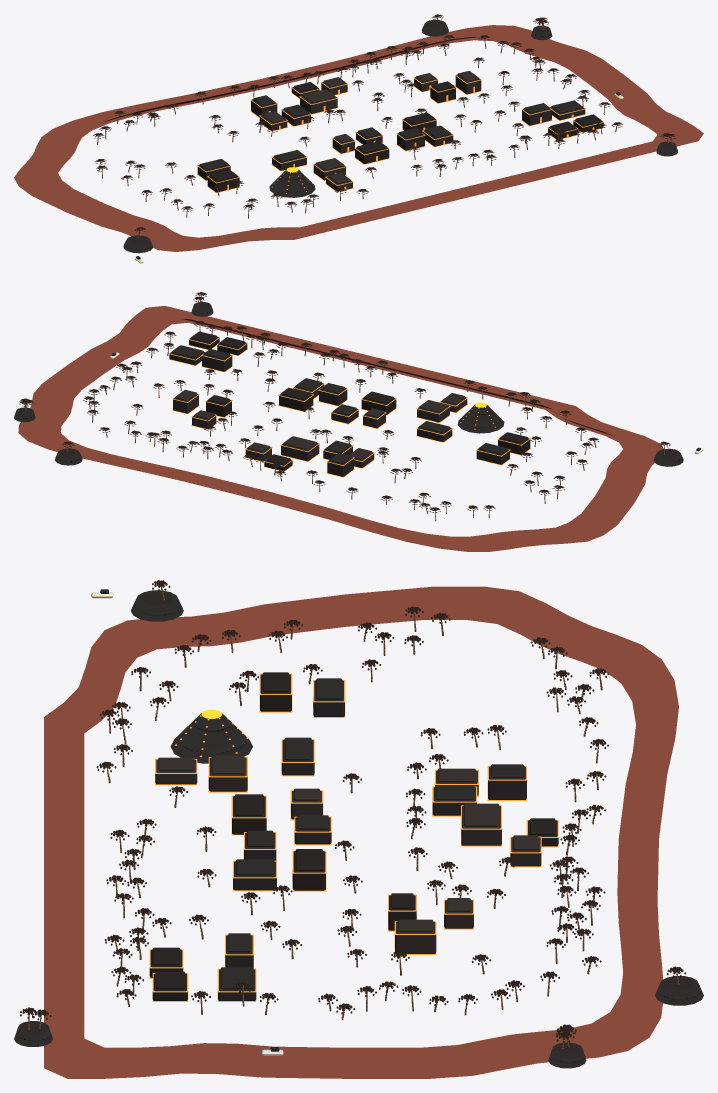
Rendered from by_vulkan.glb.
3 renders of one model, top to bottom at view 1: azimuth 30°, elevation 25°; view 2: azimuth 150°, elevation 25°; view 3: azimuth 270°, elevation 25°, orthographic. The views are drawn at different scales.
Visible parts, largest first — view 1: Lavt vand_net, Byen_net, Palmer_net, Holme_net, Vulkanen_net, Stranden_net; view 2: Lavt vand_net, Byen_net, Palmer_net, Holme_net, Vulkanen_net, Stranden_net; view 3: Lavt vand_net, Byen_net, Palmer_net, Holme_net, Vulkanen_net, Holmtraer_net.
Part boxes in pixels (x1=…): Lavt vand_net: x1=14, y1=25, x2=703, y2=251; Byen_net: x1=197, y1=71, x2=604, y2=193; Palmer_net: x1=93, y1=35, x2=622, y2=218; Holme_net: x1=123, y1=19, x2=678, y2=253; Vulkanen_net: x1=269, y1=167, x2=315, y2=197; Stranden_net: x1=104, y1=36, x2=475, y2=121; Lavt vand_net: x1=18, y1=306, x2=663, y2=551; Byen_net: x1=168, y1=331, x2=530, y2=477; Palmer_net: x1=83, y1=321, x2=599, y2=521; Holme_net: x1=14, y1=302, x2=683, y2=466; Vulkanen_net: x1=457, y1=402, x2=504, y2=433; Stranden_net: x1=184, y1=319, x2=612, y2=435; Lavt vand_net: x1=44, y1=586, x2=678, y2=1078; Byen_net: x1=149, y1=672, x2=558, y2=1001; Palmer_net: x1=96, y1=606, x2=608, y2=1019; Holme_net: x1=14, y1=590, x2=703, y2=1068; Vulkanen_net: x1=170, y1=709, x2=252, y2=763; Holmtraer_net: x1=20, y1=580, x2=686, y2=1049.
Size of the model in its own units: 95.77 by 4.17 by 56.72.
